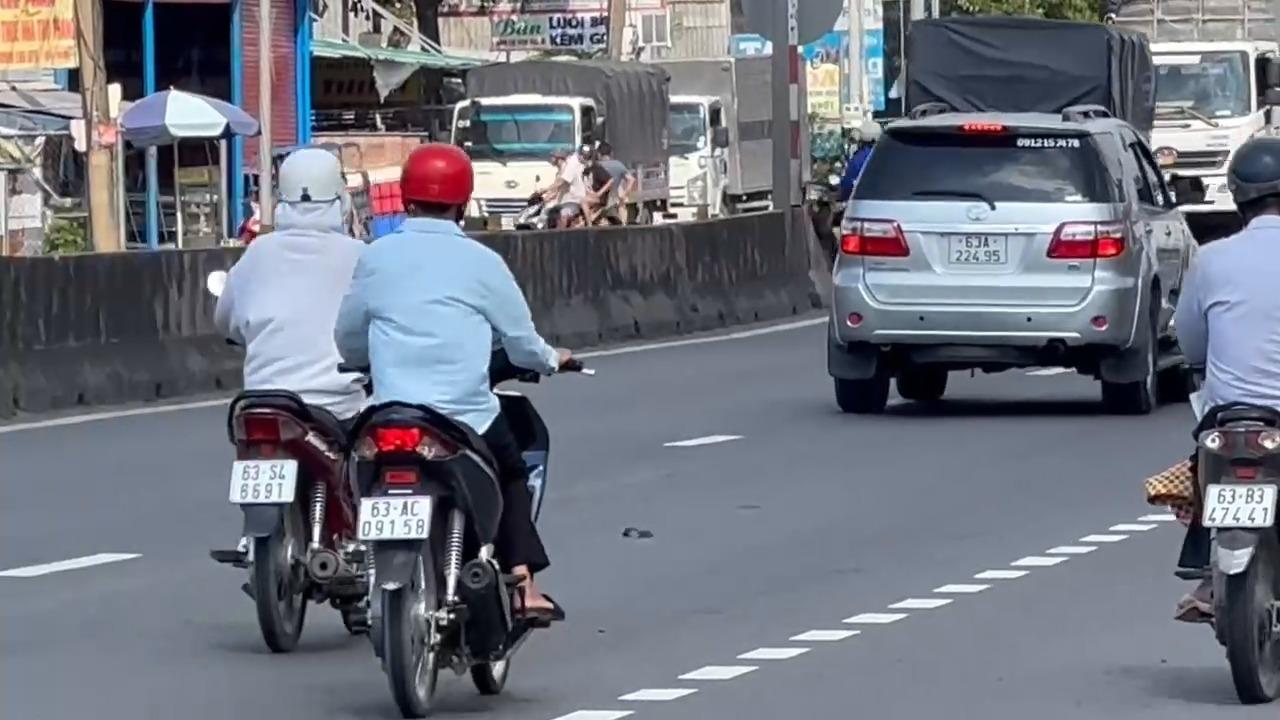bien_so: (356, 494, 432, 541), (1200, 482, 1276, 528), (228, 457, 298, 504), (943, 232, 1008, 266)
